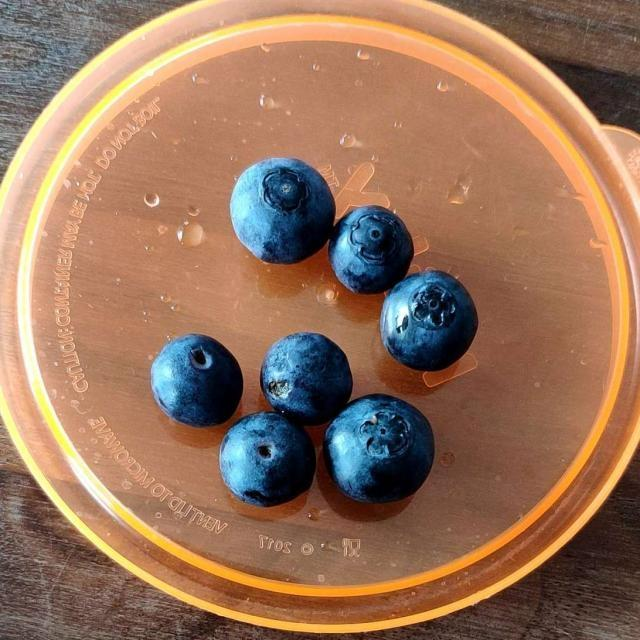blueberries: (161, 147, 465, 507)
